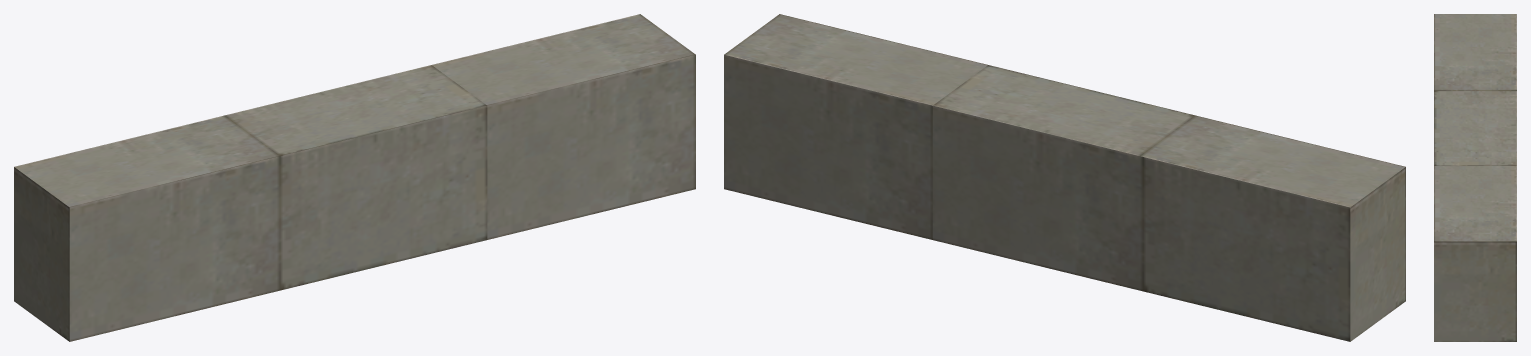
The model's file is Concrete Wall.obj.
3 views of the same model, side by side, from view 1: azimuth 30°, elevation 25°; view 2: azimuth 150°, elevation 25°; view 3: azimuth 270°, elevation 25° (orthographic). The views are drawn at different scales.
Visible parts, largest first — view 1: Mesh_0068.002; view 2: Mesh_0068.002; view 3: Mesh_0068.002.
Part boxes in pixels (x1,y1,x2,y2): Mesh_0068.002: (14, 14, 695, 341); Mesh_0068.002: (724, 14, 1405, 341); Mesh_0068.002: (1434, 14, 1516, 341).
Size of the model in its own units: 19.5 by 4 by 3.
1 material, 1 textured.
